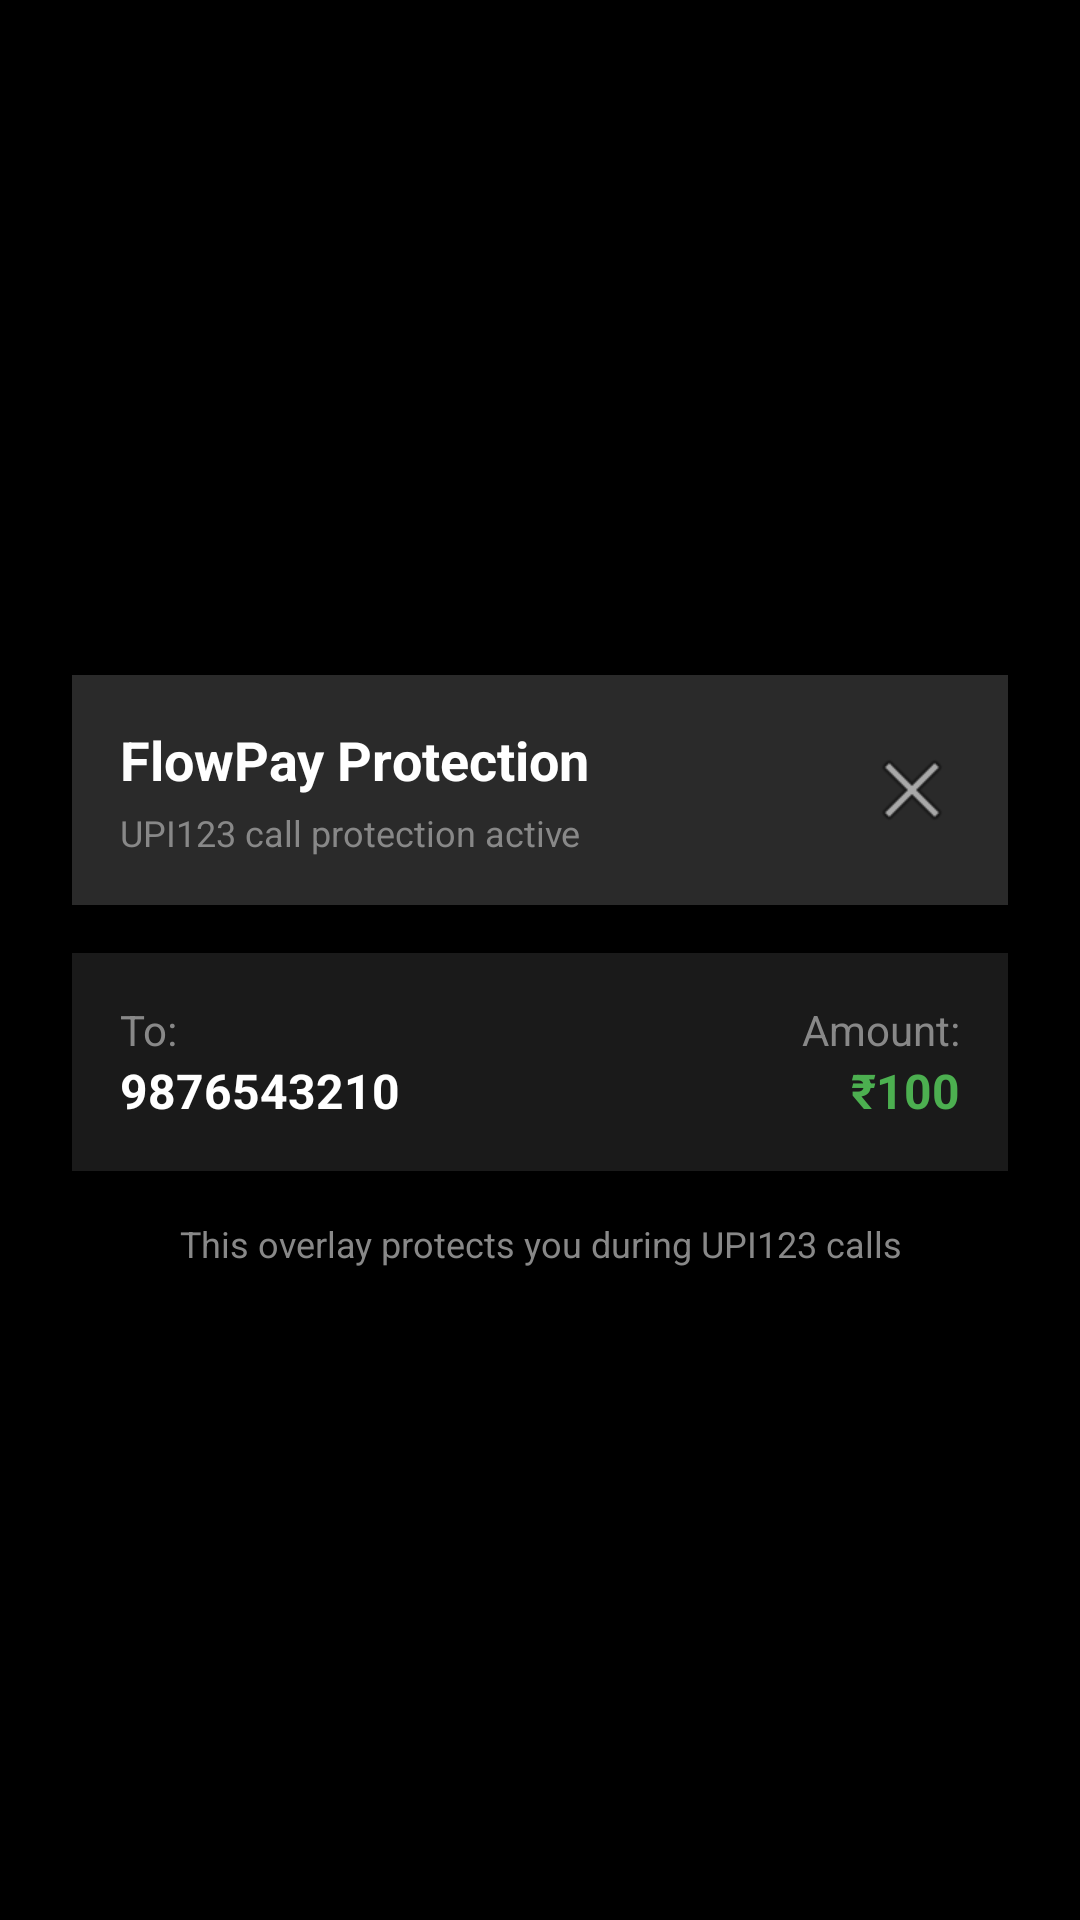

Icon click points for this 1080 x 1920 phone screenshot, format (x,y):
Close: (912,790)
